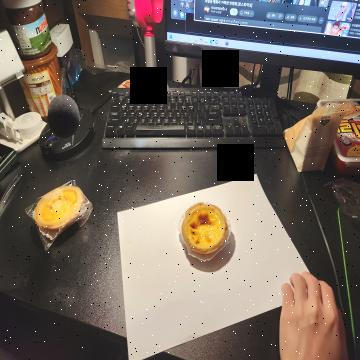EggTart: (181, 200, 228, 256)
